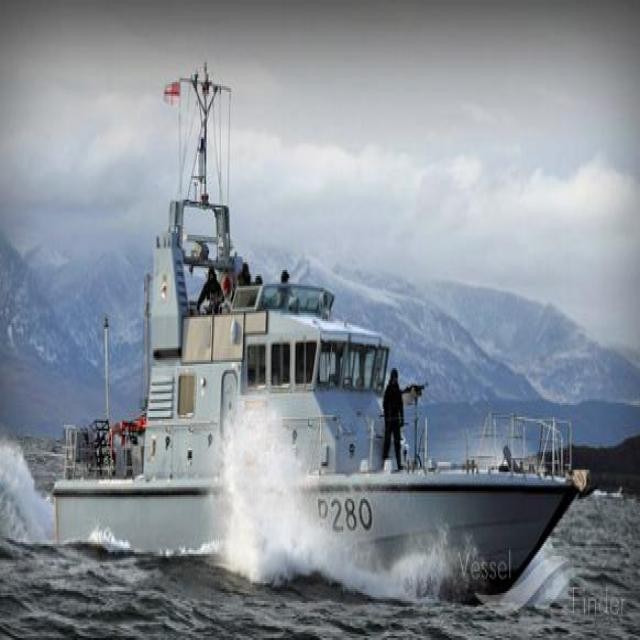Naval Ship: (49, 170, 579, 586)
